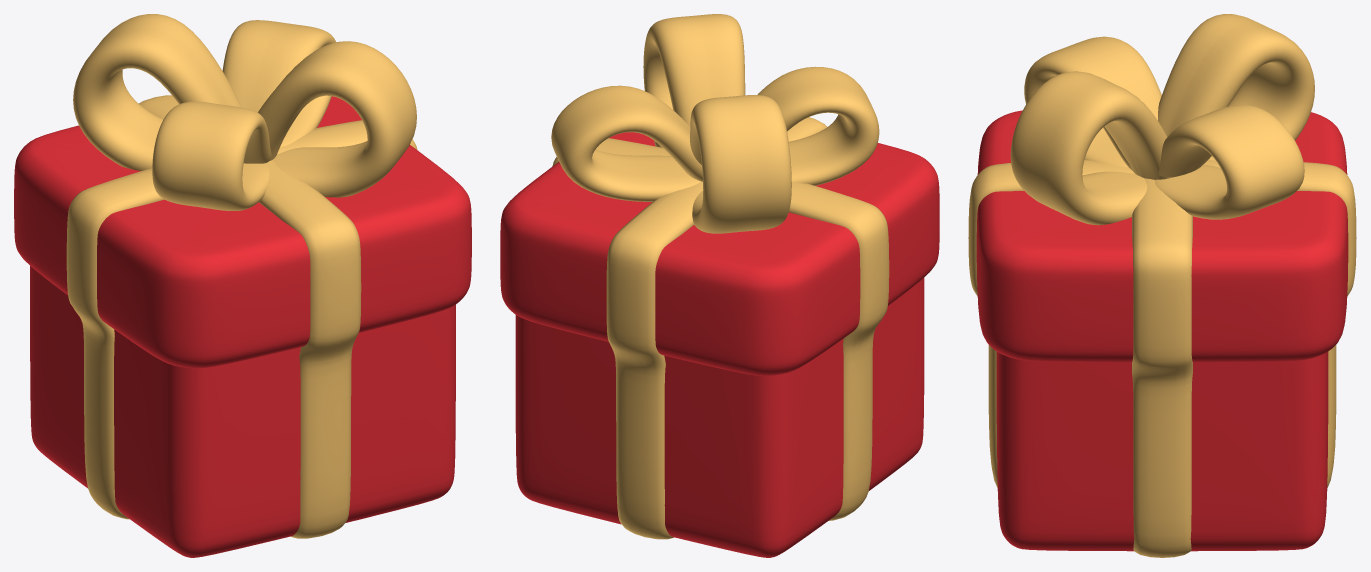
File: gift.glb
3 renders of one model, left to right at view 1: azimuth 30°, elevation 25°; view 2: azimuth 150°, elevation 25°; view 3: azimuth 270°, elevation 25°, orthographic. The views are drawn at different scales.
Visible parts, largest first — view 1: 立方体.020, 立方体.021, 平面.023, 平面.020, 平面.019, 平面.018, 平面.022, 平面.021; view 2: 立方体.020, 立方体.021, 平面.023, 平面.019, 平面.021, 平面.018, 平面.022, 平面.020; view 3: 立方体.020, 立方体.021, 平面.018, 平面.020, 平面.021, 平面.019, 平面.023, 平面.022.
Boxes of the visible parts, bbox=[...] form: 立方体.020: bbox=[30, 266, 455, 557]; 立方体.021: bbox=[14, 96, 471, 368]; 平面.023: bbox=[138, 95, 361, 538]; 平面.020: bbox=[258, 41, 416, 197]; 平面.019: bbox=[73, 14, 241, 170]; 平面.018: bbox=[66, 120, 417, 519]; 平面.022: bbox=[152, 101, 271, 210]; 平面.021: bbox=[222, 20, 335, 146]; 立方体.020: bbox=[515, 277, 924, 557]; 立方体.021: bbox=[500, 132, 939, 375]; 平面.023: bbox=[606, 117, 826, 539]; 平面.019: bbox=[690, 95, 791, 233]; 平面.021: bbox=[551, 85, 702, 201]; 平面.018: bbox=[552, 138, 889, 520]; 平面.022: bbox=[757, 66, 879, 185]; 平面.020: bbox=[643, 14, 745, 147]; 立方体.020: bbox=[996, 351, 1328, 551]; 立方体.021: bbox=[976, 110, 1348, 362]; 平面.018: bbox=[1132, 178, 1192, 557]; 平面.020: bbox=[1010, 71, 1171, 225]; 平面.021: bbox=[1154, 105, 1304, 219]; 平面.019: bbox=[1158, 14, 1314, 160]; 平面.023: bbox=[968, 160, 1356, 487]; 平面.022: bbox=[1024, 36, 1161, 169].
Size of the model in its own units: 1.26 by 1.62 by 1.26.
